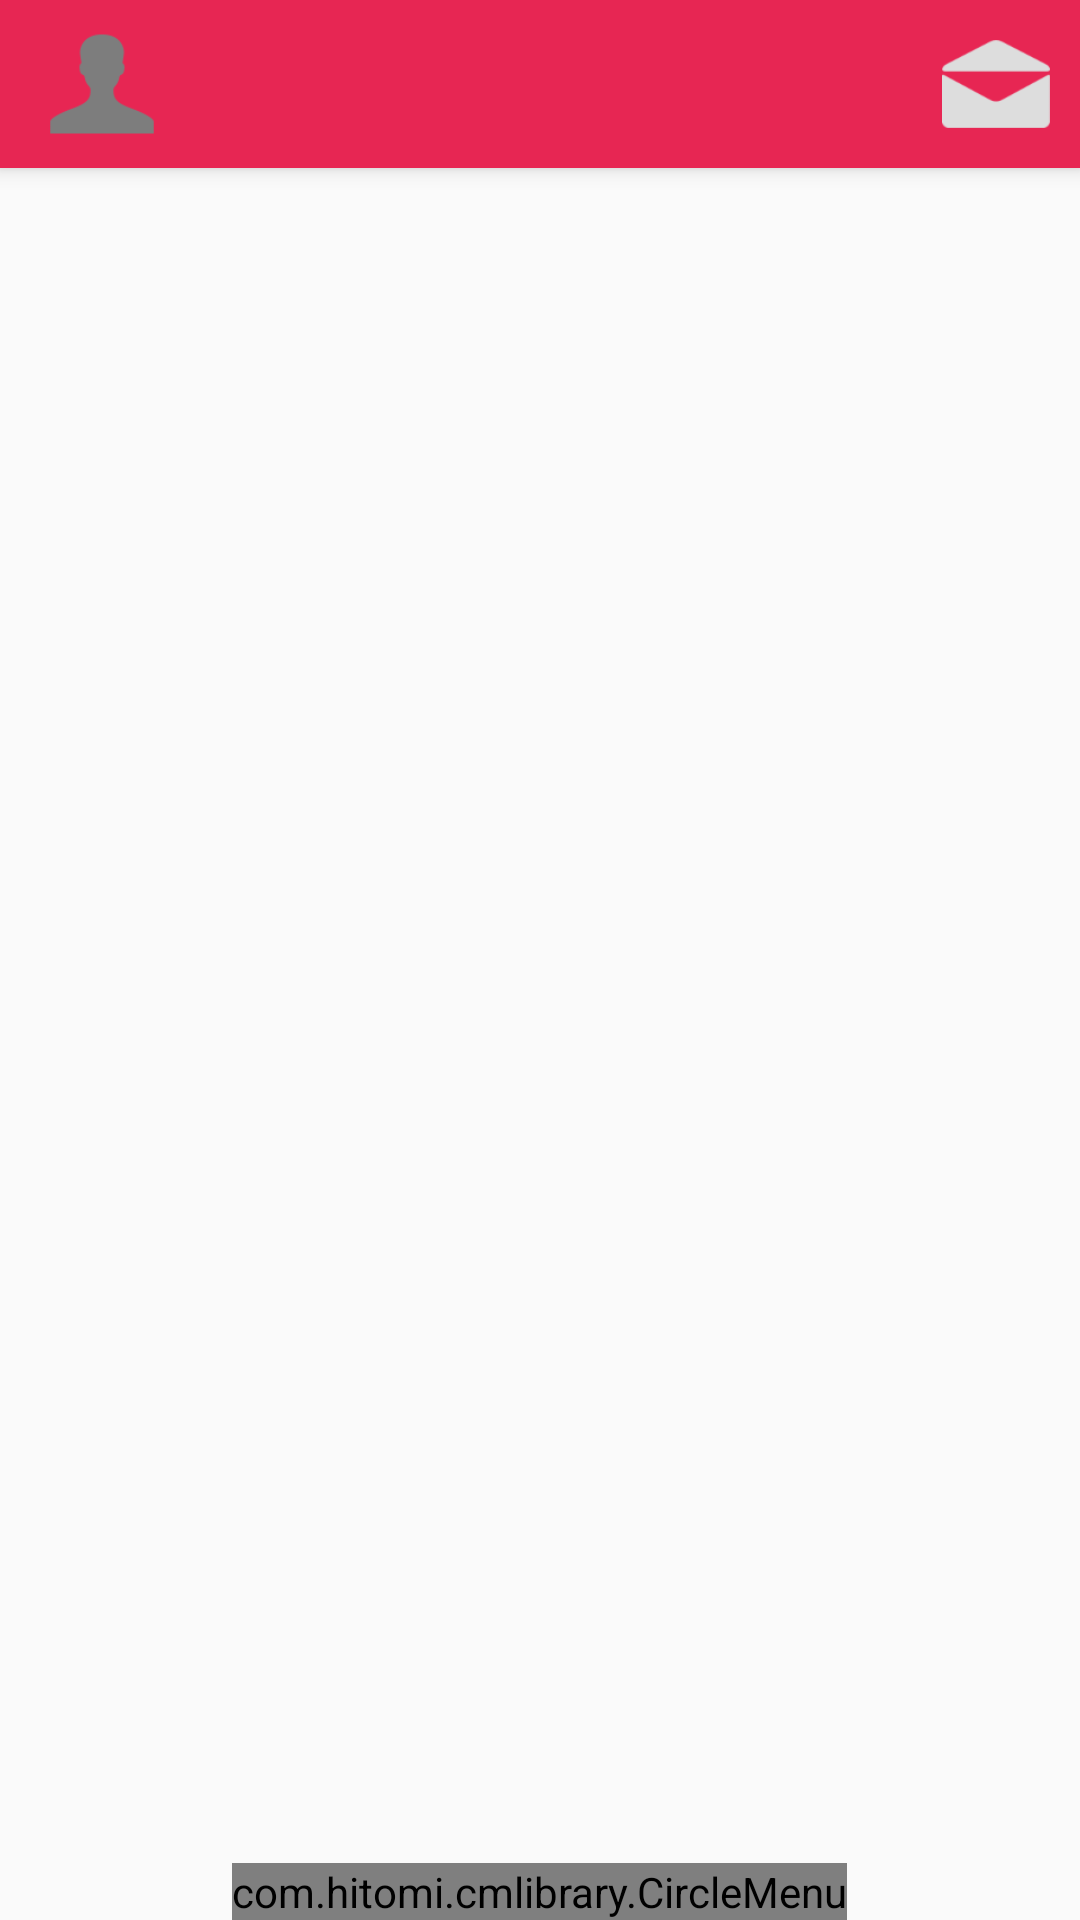

Where to tap for icons on this 1080 x 1920 app screen, as point (x, y):
notifications message read: point (996, 84)
notifications profile: point (102, 84)
